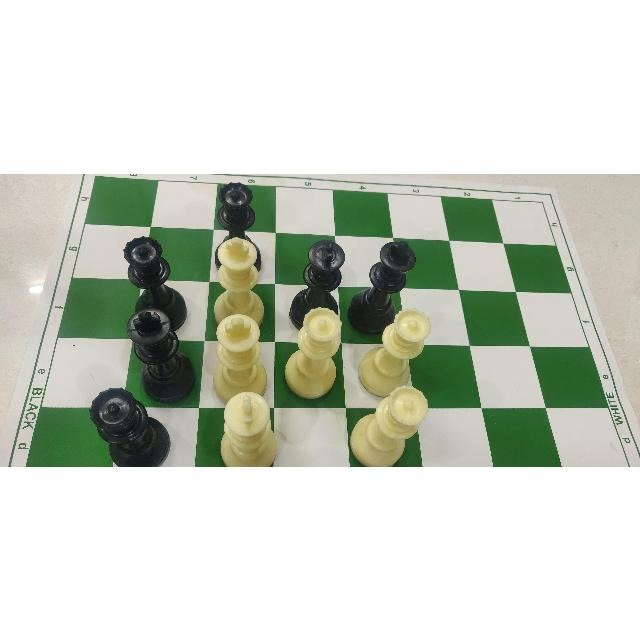black-king: (120, 305, 198, 401), (353, 238, 417, 328), (284, 235, 350, 310)
black-queen: (85, 383, 173, 466), (116, 233, 188, 313), (214, 182, 264, 231)
white-king: (208, 314, 269, 392), (211, 236, 266, 322), (219, 390, 277, 464)
white-queen: (359, 305, 435, 396), (349, 385, 435, 462), (283, 307, 347, 399)
